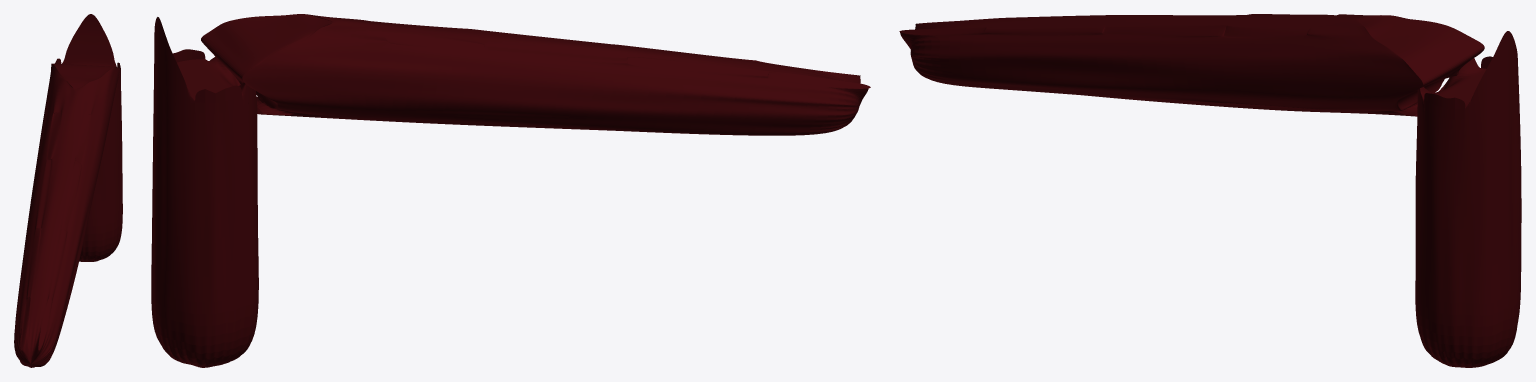
File: level_one_fallen_tree.fbx
3 views of the same model, side by side, from view 1: azimuth 30°, elevation 25°; view 2: azimuth 150°, elevation 25°; view 3: azimuth 270°, elevation 25° (orthographic). The views are drawn at different scales.
Visible parts, largest first — view 1: FallenTree01; view 2: FallenTree01; view 3: FallenTree01.
Boxes of the visible parts, bbox=[...] form: FallenTree01: bbox=[14, 14, 122, 367]; FallenTree01: bbox=[151, 14, 870, 367]; FallenTree01: bbox=[899, 14, 1521, 367].
Size of the model in its own units: 1083 by 854 by 1391.
